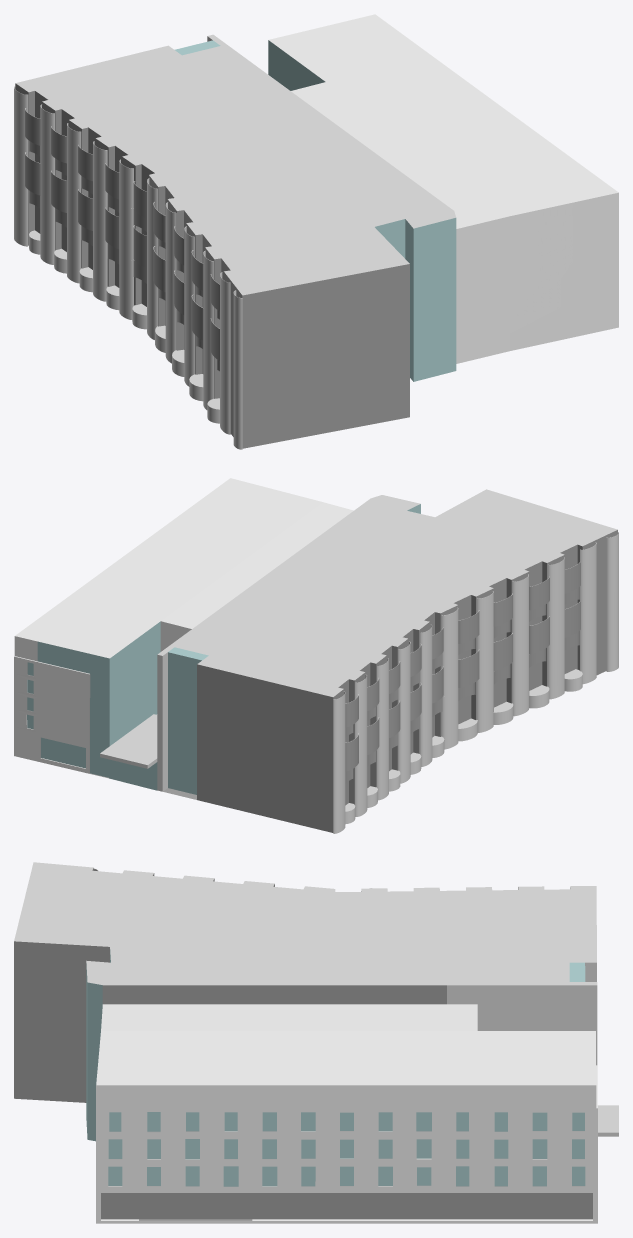
File: curvy_building 2.fbx
3 views of the same model, one above another, from view 1: azimuth 30°, elevation 25°; view 2: azimuth 150°, elevation 25°; view 3: azimuth 270°, elevation 25° (orthographic). The views are drawn at different scales.
Visible parts, largest first — view 1: pCylinder60; view 2: pCylinder60; view 3: pCylinder60.
Boxes of the visible parts, x1,y1,x2,y2 form: pCylinder60: [14, 14, 618, 449]; pCylinder60: [14, 478, 618, 833]; pCylinder60: [14, 862, 618, 1223].
Size of the model in its own units: 104 by 37.35 by 129.
